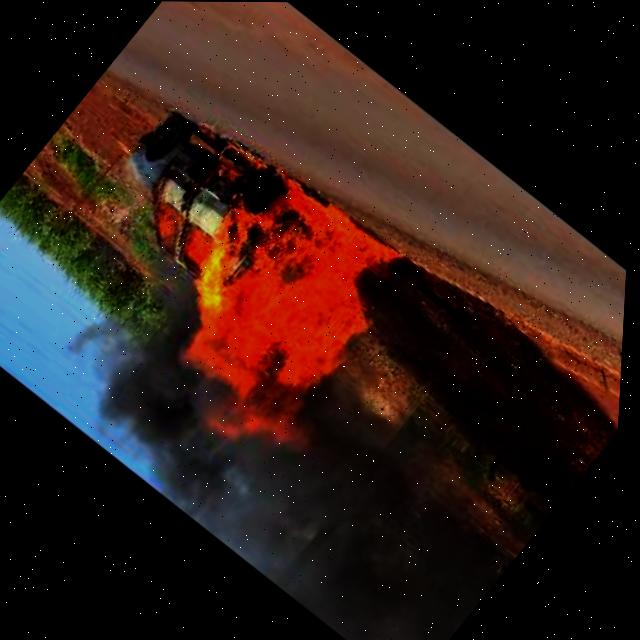Fire: (46, 104, 445, 482)
Smoke: (224, 403, 533, 640), (40, 308, 298, 536)
